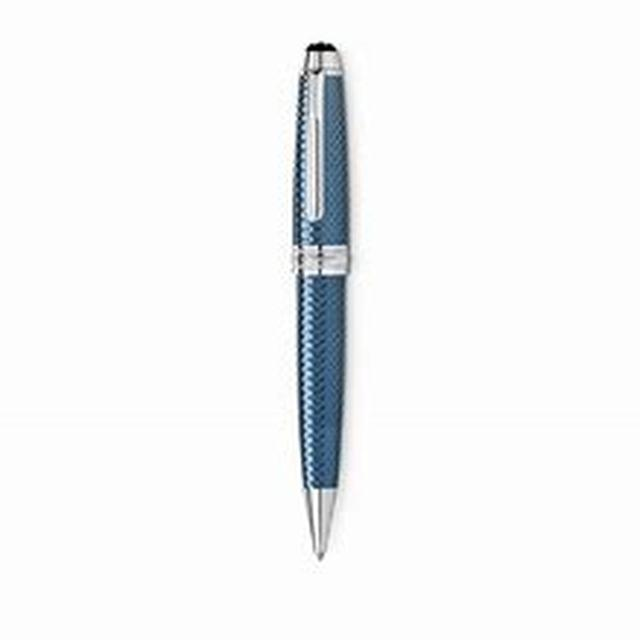pen: (280, 31, 400, 567)
